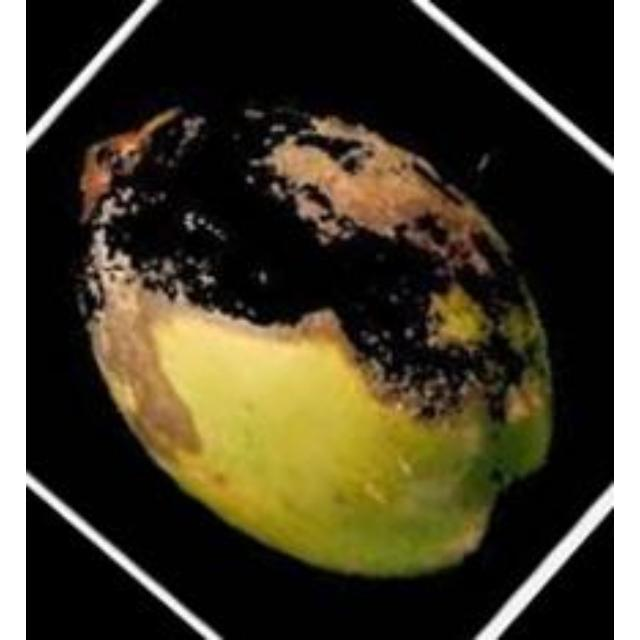damaged: (67, 63, 554, 583)
